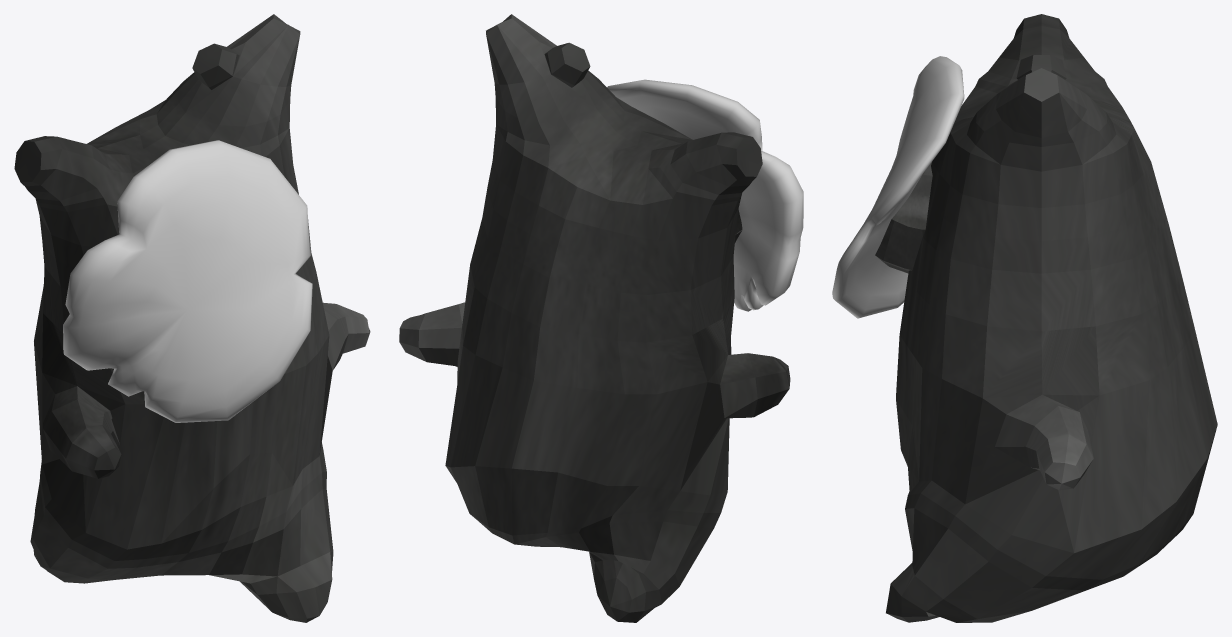
Rendered from frame_0005.obj.
The picture shows the model from 3 angles, left to right: view 1: azimuth 30°, elevation 25°; view 2: azimuth 150°, elevation 25°; view 3: azimuth 270°, elevation 25°; orthographic projection. The views are drawn at different scales.
Parts seen in each view (by area): view 1: korok, leaf; view 2: korok, leaf; view 3: korok, leaf, nose.
Part boxes in pixels (<box>): korok: <box>14,14,370,622</box>; leaf: <box>63,140,312,422</box>; korok: <box>399,14,790,622</box>; leaf: <box>607,79,803,311</box>; korok: <box>886,14,1217,622</box>; leaf: <box>832,56,964,318</box>; nose: <box>875,162,932,273</box>.
Size of the model in its own units: 1.55 by 2.25 by 1.37.
